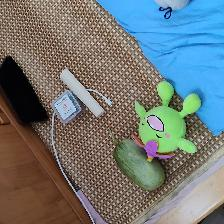gua: (112, 149, 165, 185)
